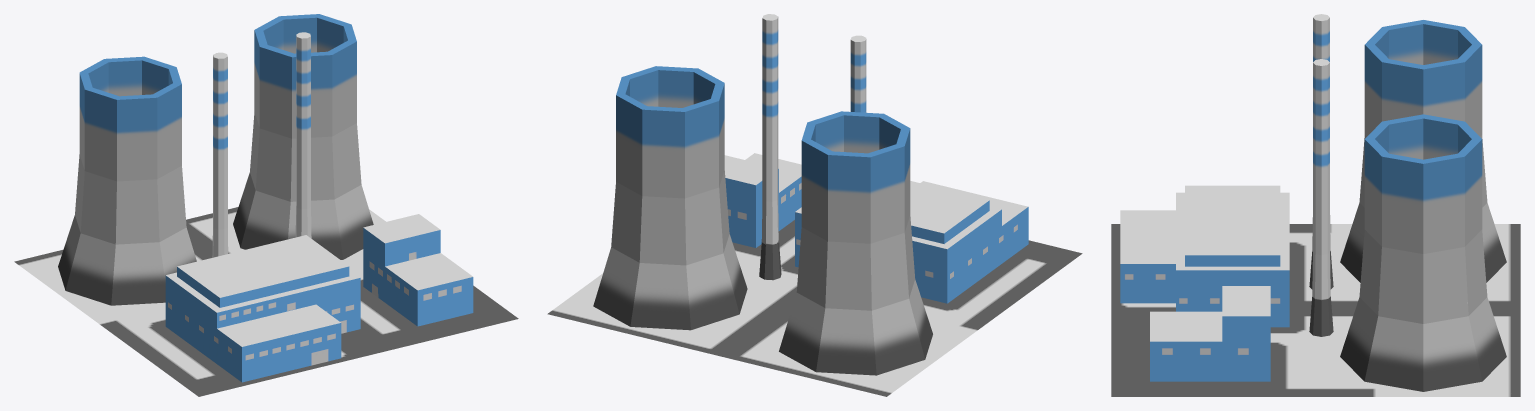
File: Powerplant.fbx
3 renders of one model, left to right at view 1: azimuth 30°, elevation 25°; view 2: azimuth 150°, elevation 25°; view 3: azimuth 270°, elevation 25°, orthographic. The views are drawn at different scales.
Parts seen in each view (by area): view 1: Powerplant, Powerplant_Ground; view 2: Powerplant, Powerplant_Ground; view 3: Powerplant, Powerplant_Ground.
Part boxes in pixels (box(x1,y1,x2,y2)): Powerplant: box(58, 14, 473, 382); Powerplant_Ground: box(14, 207, 518, 396); Powerplant: box(593, 14, 1028, 375); Powerplant_Ground: box(547, 220, 1082, 396); Powerplant: box(1120, 14, 1506, 391); Powerplant_Ground: box(1111, 224, 1520, 396).
Bounding box in the file's own units: 445 × 323 × 445.
